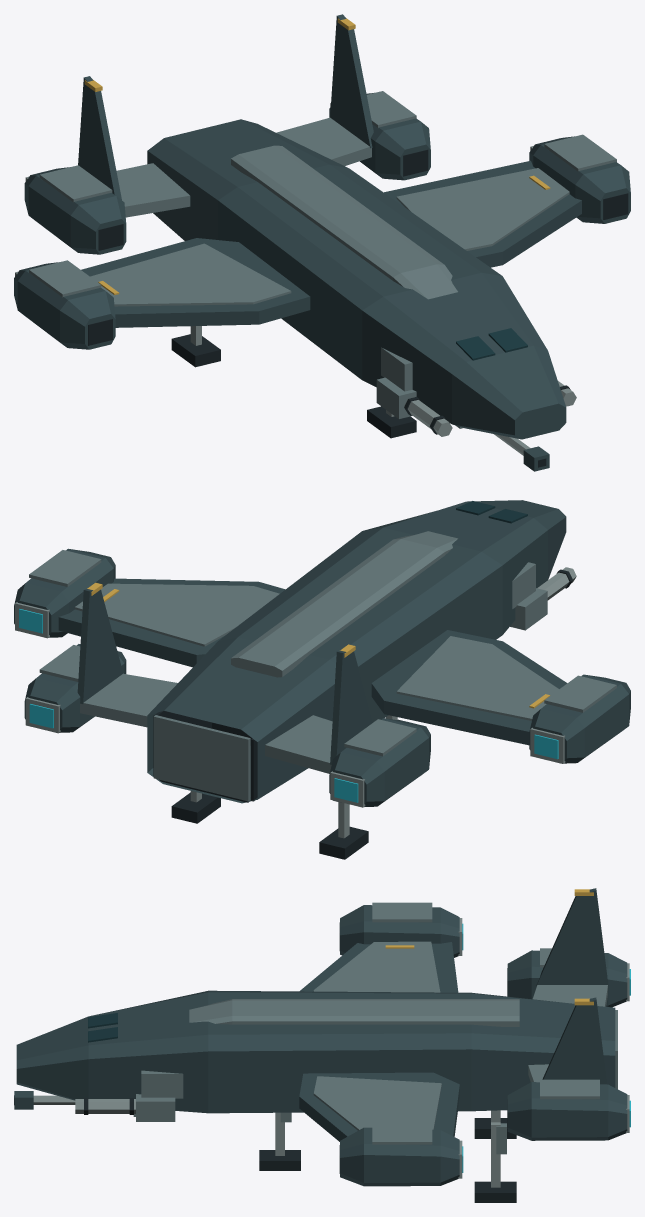
File: korp_d0_lod2.glb
3 views of the same model, one above another, from view 1: azimuth 30°, elevation 25°; view 2: azimuth 150°, elevation 25°; view 3: azimuth 270°, elevation 25° (orthographic). The views are drawn at different scales.
Parts seen in each view (by area): view 1: KORP_ROOT_MESH; view 2: KORP_ROOT_MESH; view 3: KORP_ROOT_MESH.
Part boxes in pixels (x1,y1,x2,y2): KORP_ROOT_MESH: [14, 14, 630, 471]; KORP_ROOT_MESH: [14, 500, 630, 859]; KORP_ROOT_MESH: [14, 888, 630, 1202].
Size of the model in its own units: 24.3 by 10.2 by 25.77.
